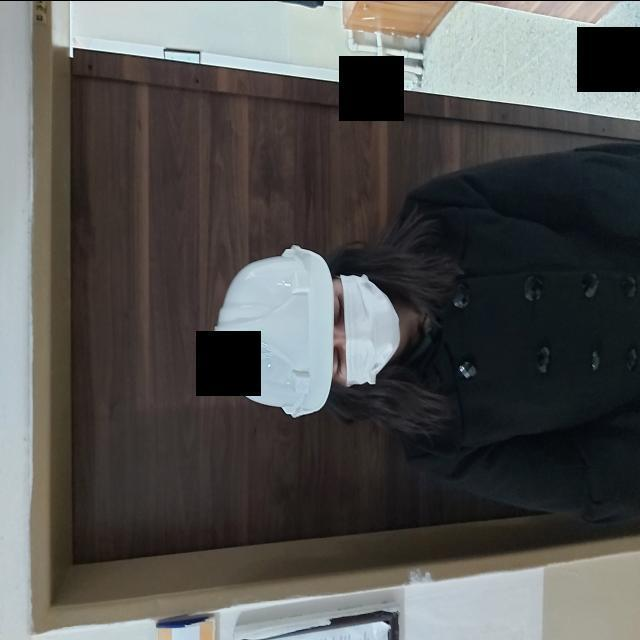helmet: (212, 244, 335, 418)
